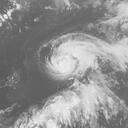cyclone: (42, 31, 98, 78)
